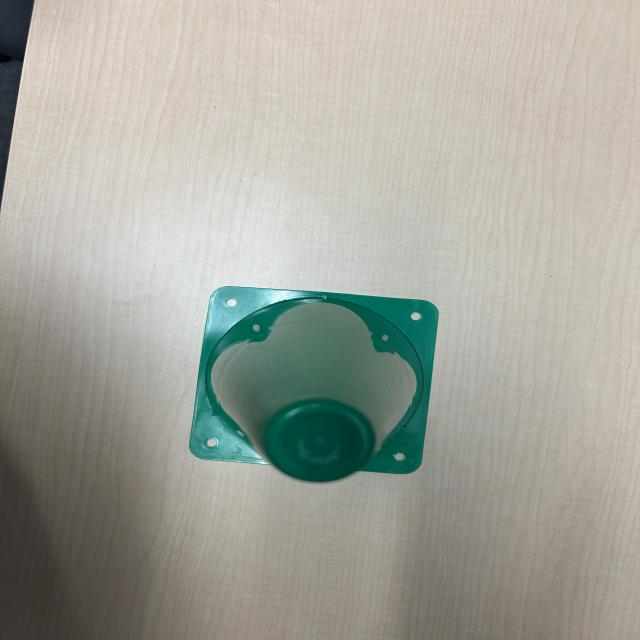green cone: (186, 272, 444, 490)
